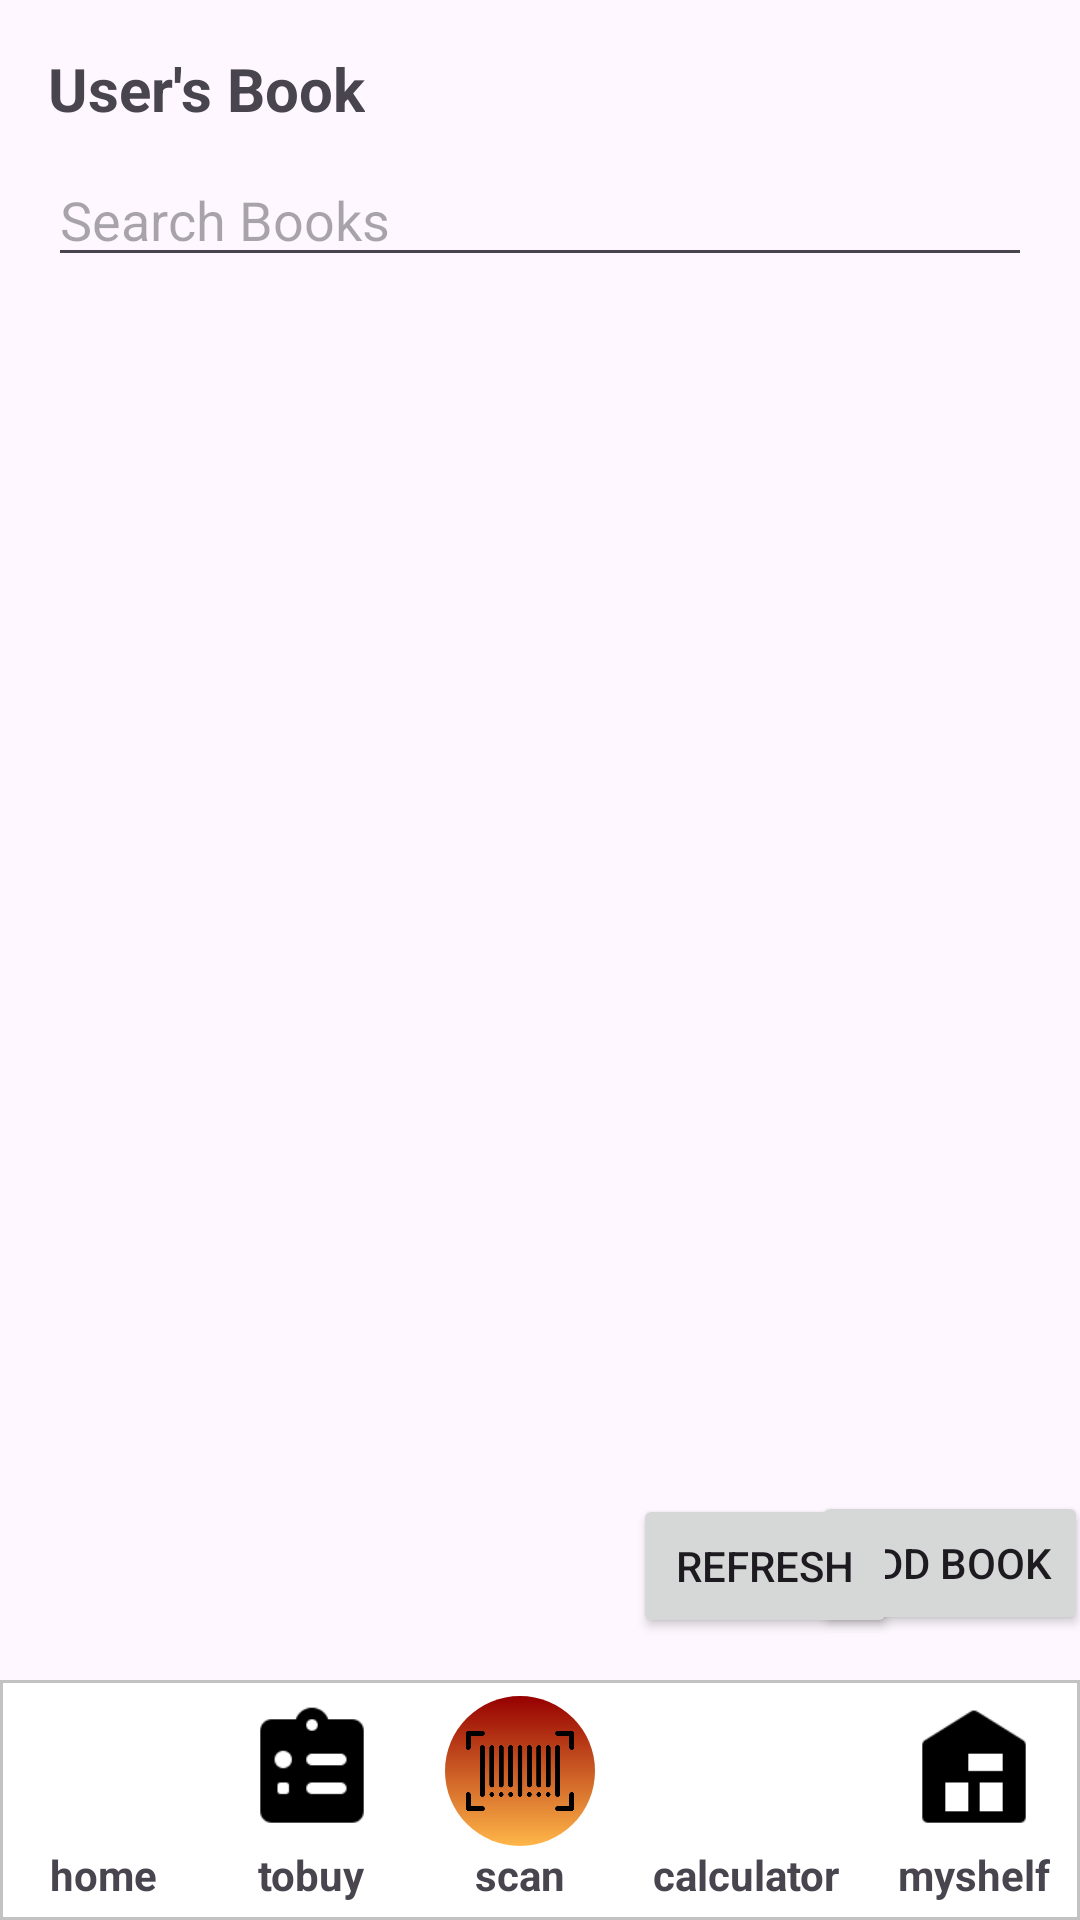

Where icons sit on this 1080×1920 app screen, as (x1, y1, x2, y2):
barcode: (445, 1696, 595, 1846)
